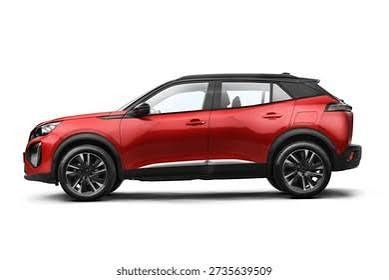car: (27, 78, 364, 204)
